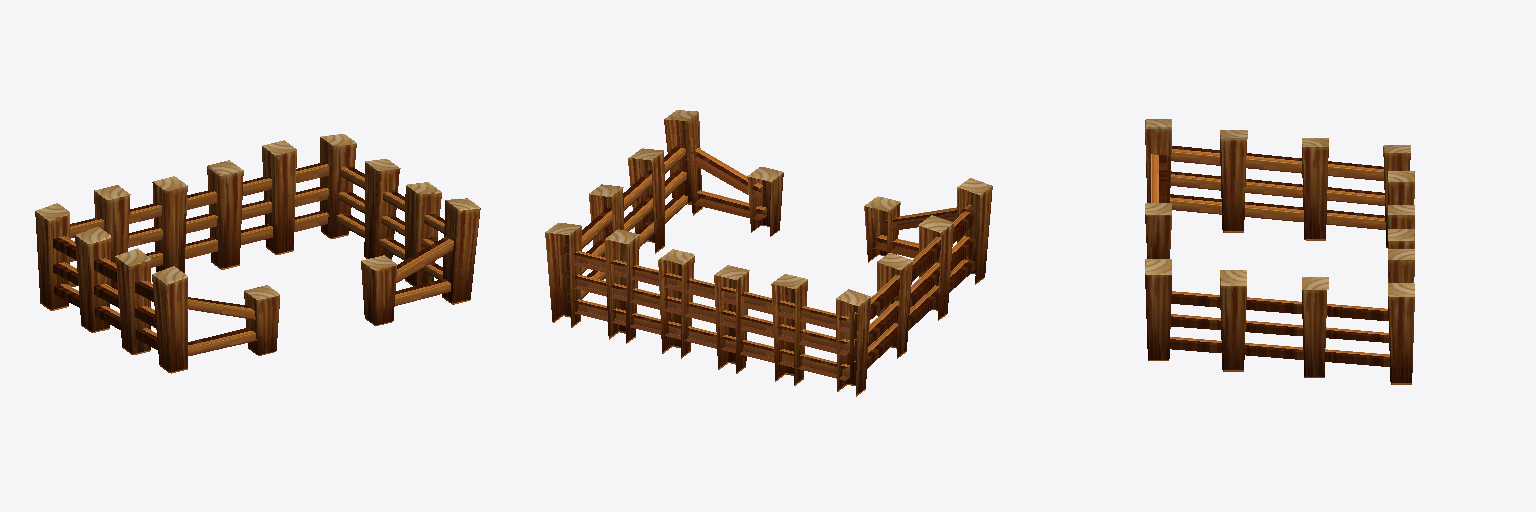
3 renders of one model, left to right at view 1: azimuth 30°, elevation 25°; view 2: azimuth 150°, elevation 25°; view 3: azimuth 270°, elevation 25°, orthographic.
Parts seen in each view (by area): view 1: vsn_mesh_0__mesh_0_.002; view 2: vsn_mesh_0__mesh_0_.002; view 3: vsn_mesh_0__mesh_0_.002.
Part boxes in pixels (left/top/right/bottom): vsn_mesh_0__mesh_0_.002: left=35, top=134, right=480, bottom=373; vsn_mesh_0__mesh_0_.002: left=545, top=110, right=992, bottom=396; vsn_mesh_0__mesh_0_.002: left=1145, top=119, right=1414, bottom=384.
Bounding box in the file's own units: 131 × 49.65 × 97.23.
1 materials, 1 textured.